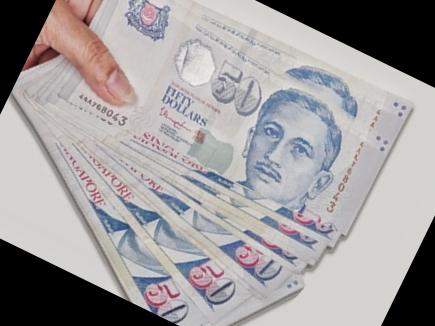50SingaporeDollar: (62, 0, 409, 236)
